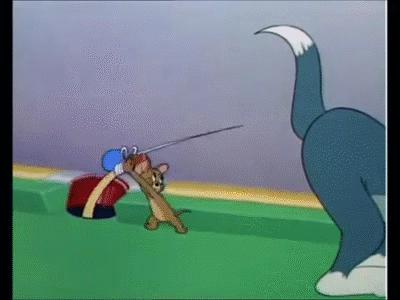jerry: (122, 154, 192, 236)
